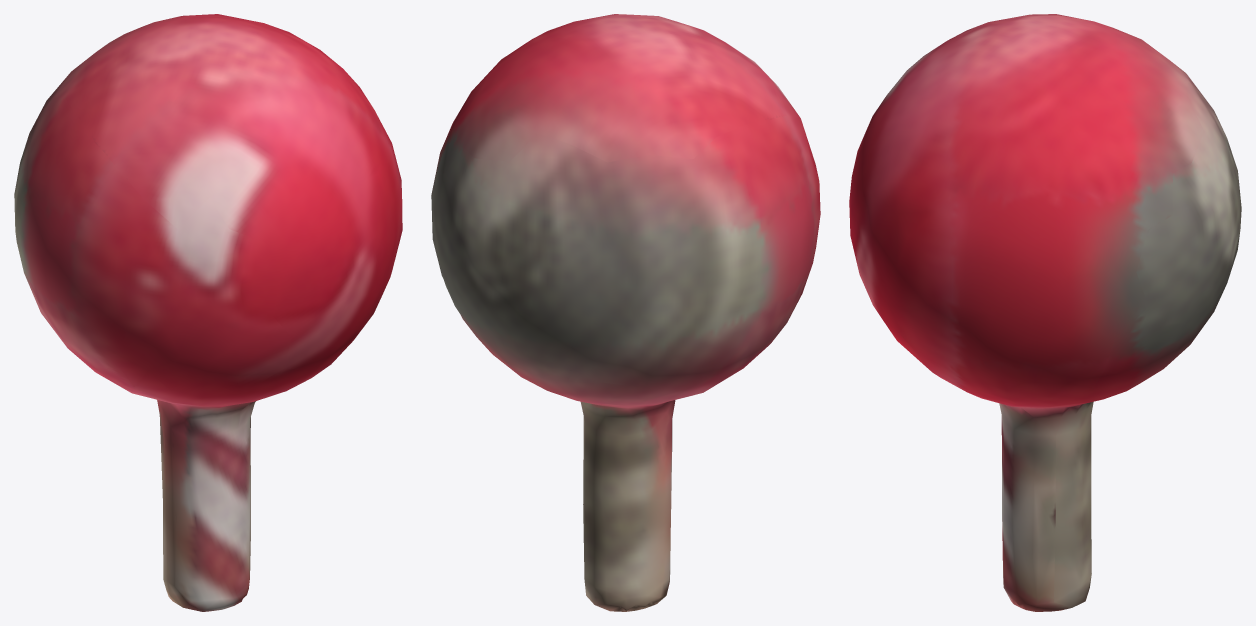
The model's file is CF_Lollipop_Red.fbx.
The picture shows the model from 3 angles, left to right: view 1: azimuth 30°, elevation 25°; view 2: azimuth 150°, elevation 25°; view 3: azimuth 270°, elevation 25°; orthographic projection.
Parts seen in each view (by area): view 1: CF_Lollipop_Red; view 2: CF_Lollipop_Red; view 3: CF_Lollipop_Red.
Boxes of the visible parts, left/top/right/bottom form: CF_Lollipop_Red: left=14, top=14, right=402, bottom=611; CF_Lollipop_Red: left=431, top=14, right=820, bottom=611; CF_Lollipop_Red: left=849, top=14, right=1241, bottom=611.
Size of the model in its own units: 0.5615 by 0.9 by 0.5623.
